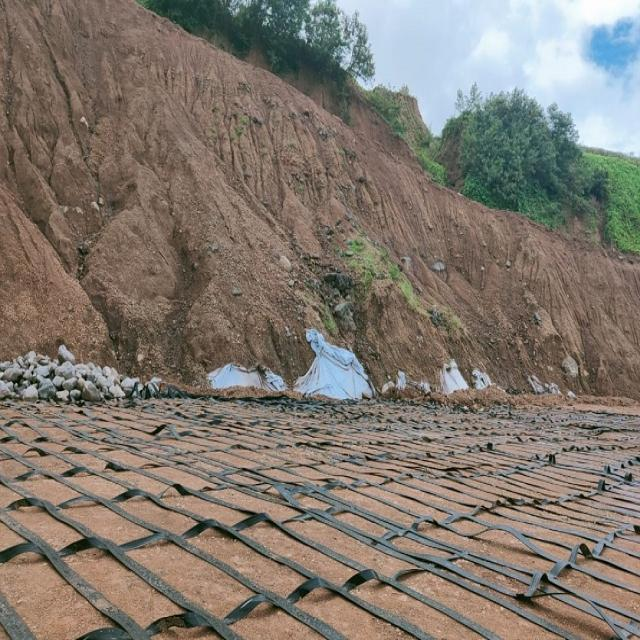grass: (138, 0, 639, 251)
red-sand: (0, 395, 639, 639)
rocks: (0, 344, 164, 399), (527, 375, 559, 391), (561, 356, 578, 377), (473, 370, 487, 388)
